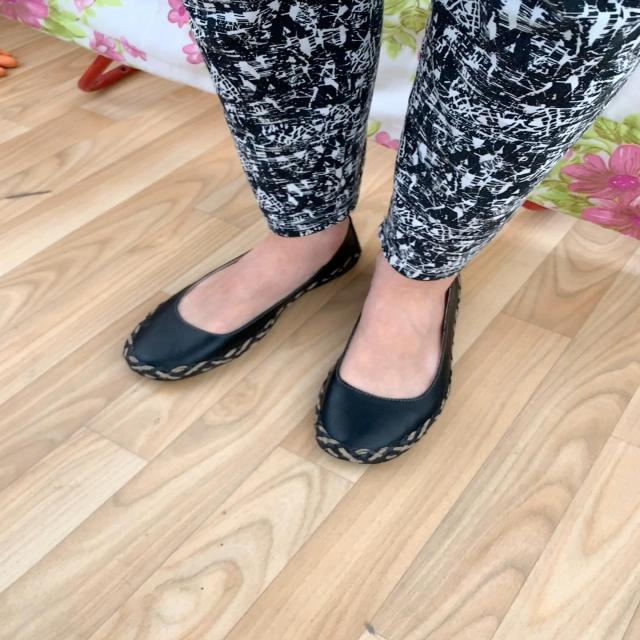shoe: (127, 217, 358, 373), (315, 256, 463, 466)
